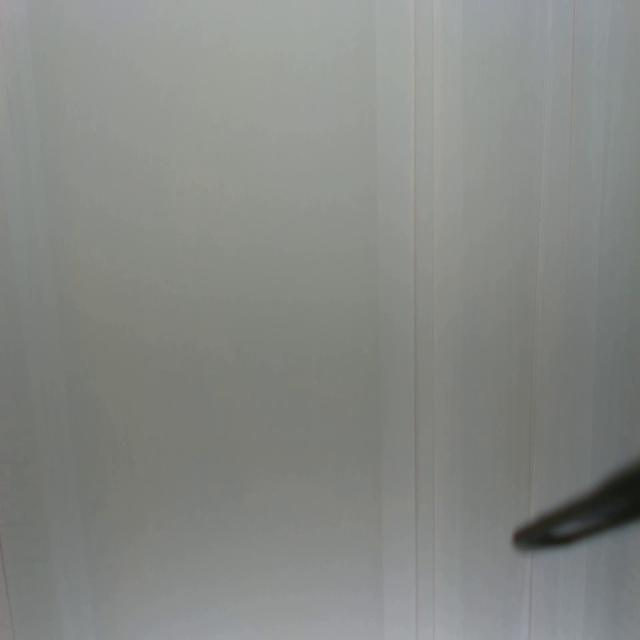crease: (526, 70, 548, 508), (429, 1, 437, 639), (412, 0, 419, 640), (563, 0, 577, 291), (0, 540, 17, 640), (525, 554, 537, 640)
